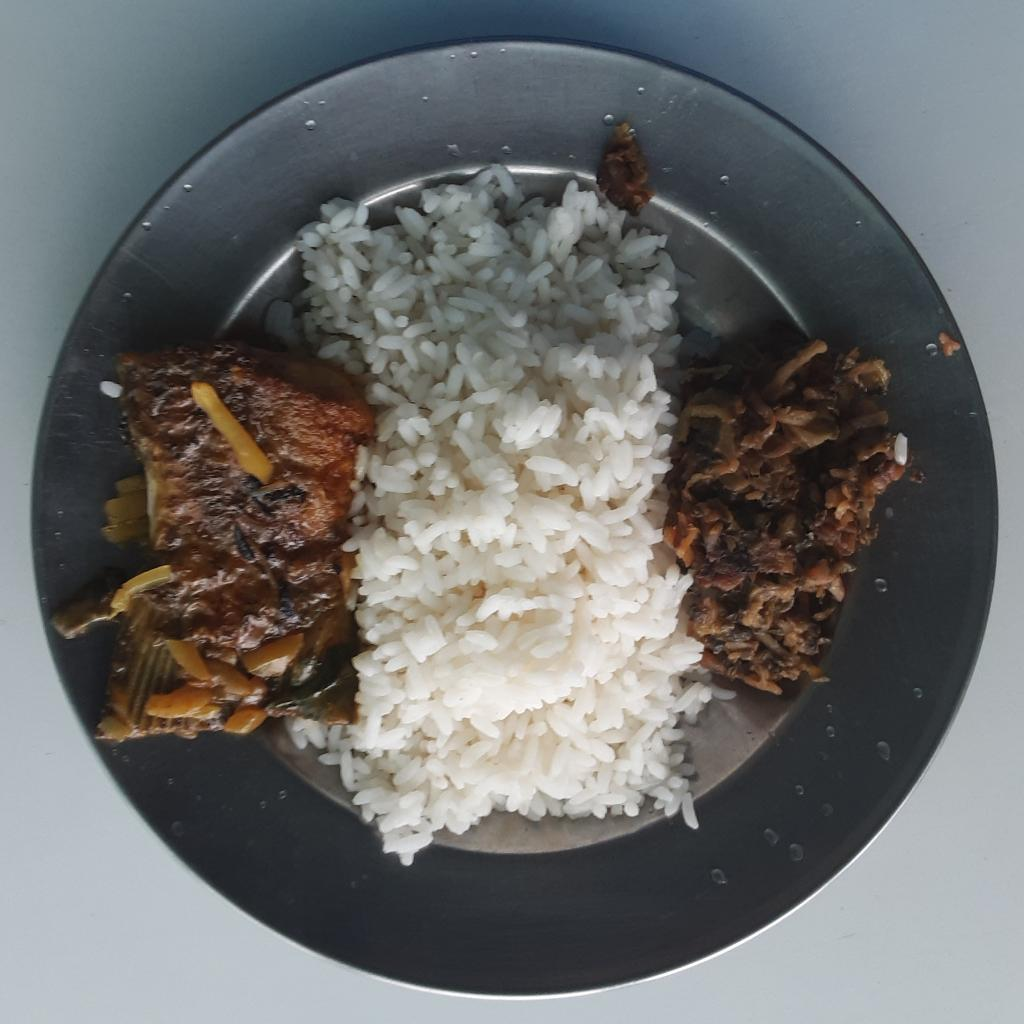fish: (50, 333, 378, 740)
korola-vaji: (661, 335, 903, 690), (597, 113, 652, 212)
rice: (287, 164, 739, 857)
